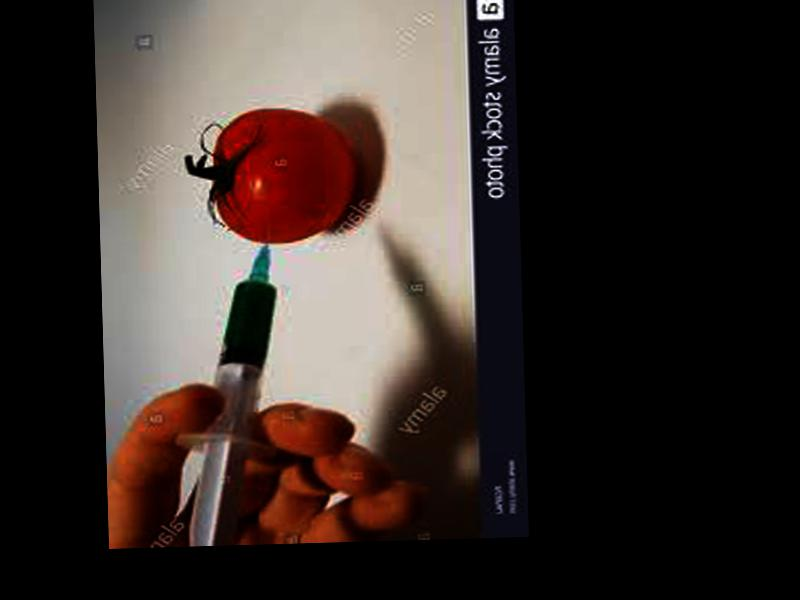Tomato: (212, 108, 357, 245)
